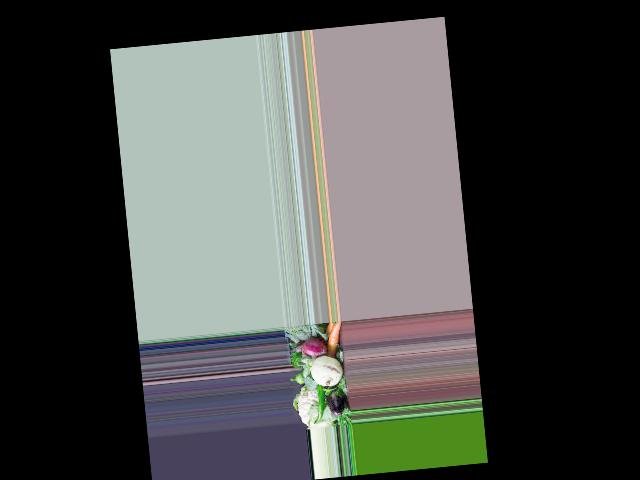carrot: (322, 320, 345, 351)
